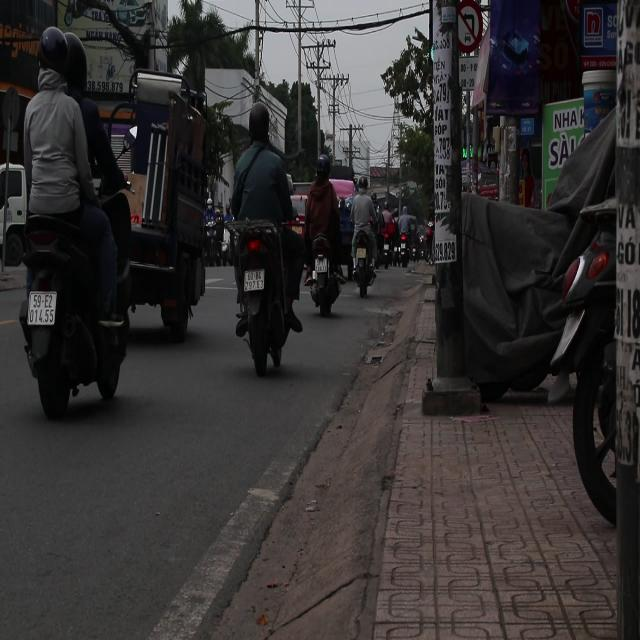motorbike: (11, 203, 128, 416), (233, 210, 290, 385), (306, 238, 344, 317), (352, 221, 376, 307)
truck: (124, 67, 250, 342)
